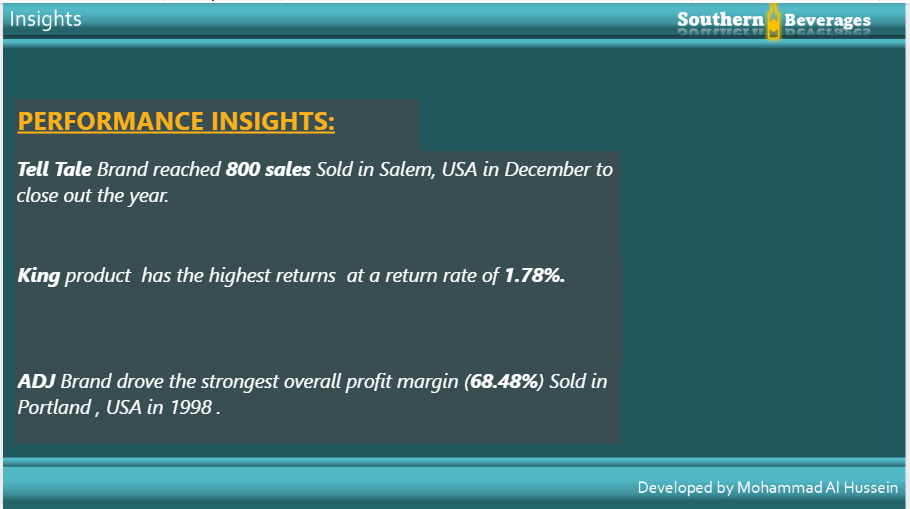

This screenshot's page, from the dashboard's own definition file:
{"tool":"powerbi","page":{"name":"Insigths","canvas":[1280,720],"ordinal":4},"visuals":[{"type":"textbox","box":[15.8,509.8,859.7,113.8],"z":0},{"type":"textbox","box":[15.6,360,861.7,150.2],"z":1000},{"type":"textbox","box":[14.2,209.8,861.7,150.2],"z":2000},{"type":"textbox","box":[15.6,136.1,575.4,73.7],"z":3000}]}

Visuals, with their boxes in screenshot pixels (x1, y1, x2, y2), scaled from the page's 1280x720 canvas onto the 910x509 screenshot:
textbox: {"left": 11, "top": 360, "right": 622, "bottom": 441}
textbox: {"left": 11, "top": 255, "right": 624, "bottom": 361}
textbox: {"left": 10, "top": 148, "right": 623, "bottom": 255}
textbox: {"left": 11, "top": 96, "right": 420, "bottom": 148}
